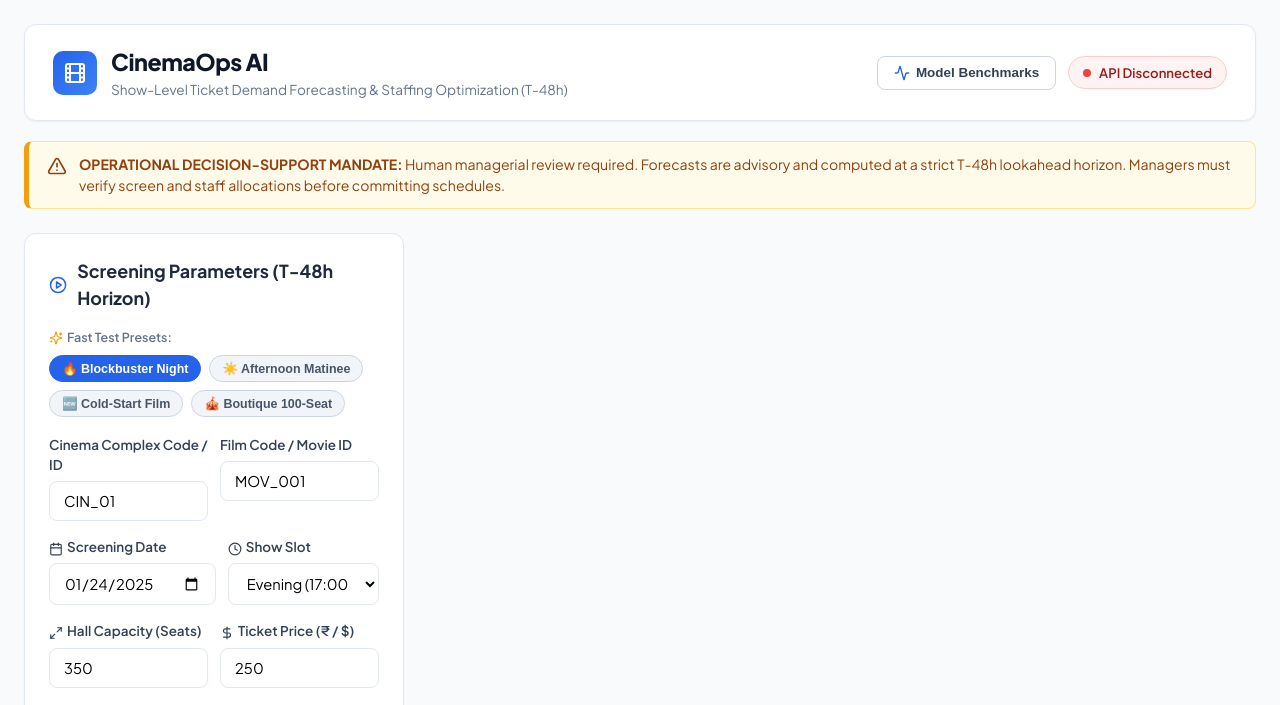
Test: CinemaOps AI React Frontend › opens and closes the Model Benchmarks modal
Click the button "Model Benchmarks" at (966, 73), box [877,56,1056,90]
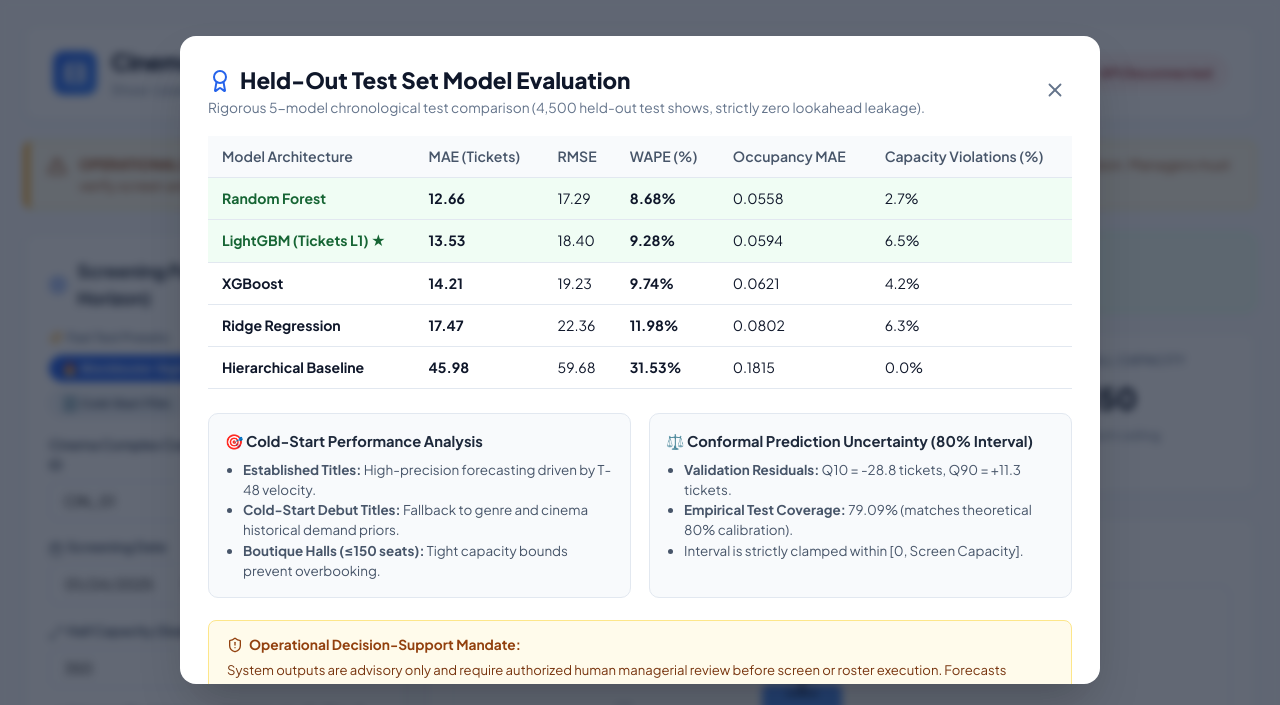
Now the heading "Held-Out Test Set Model Evaluation" is shown, box [208,66,630,94]
Now the text "LightGBM (Tickets L1) ★" is shown, box [222,232,386,250]
